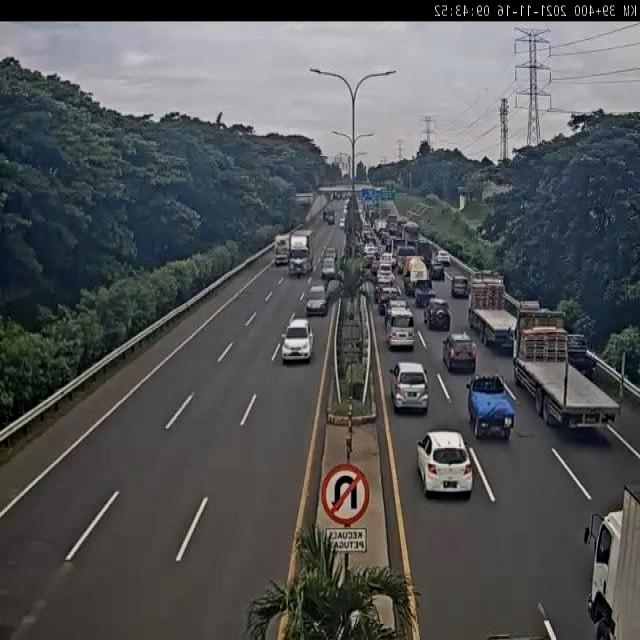Car: (416, 429, 474, 497), (465, 374, 516, 439), (389, 361, 429, 414), (282, 317, 314, 363), (442, 331, 476, 374), (424, 298, 452, 330), (384, 297, 409, 329), (306, 285, 328, 316), (377, 286, 399, 314), (414, 283, 436, 308), (450, 274, 470, 298), (321, 256, 337, 281), (430, 262, 445, 280), (436, 250, 451, 266), (364, 242, 376, 258), (370, 258, 381, 275), (363, 230, 374, 246), (324, 210, 335, 224), (339, 218, 345, 229)
Truck: (513, 306, 618, 431), (288, 232, 313, 277), (387, 214, 398, 236), (367, 208, 379, 226), (378, 230, 390, 247), (348, 194, 357, 208)
